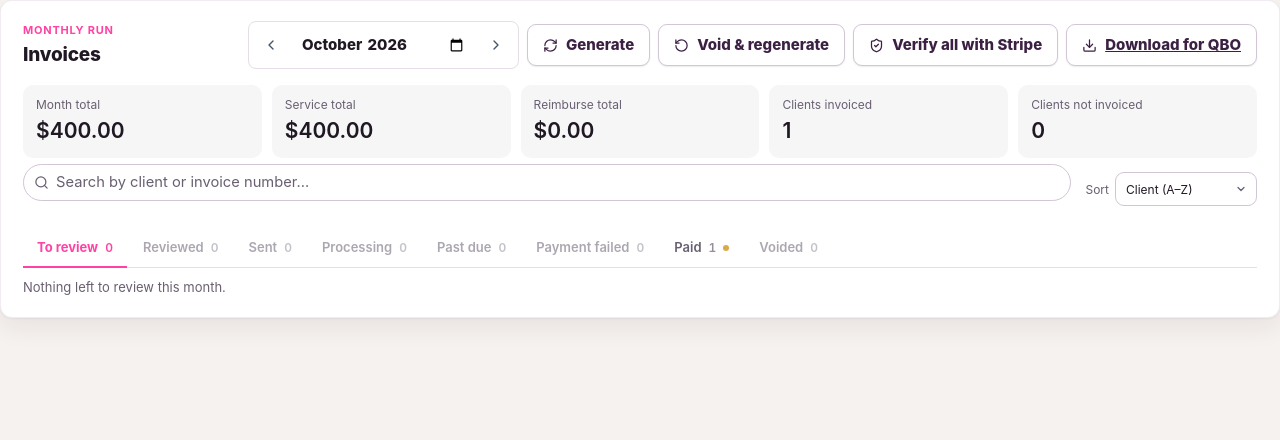
Scenario: a payment for a different amount than the invoice total › shows both amounts on the row
Click the tab "Paid 1": (702, 249) [660,229,743,268]
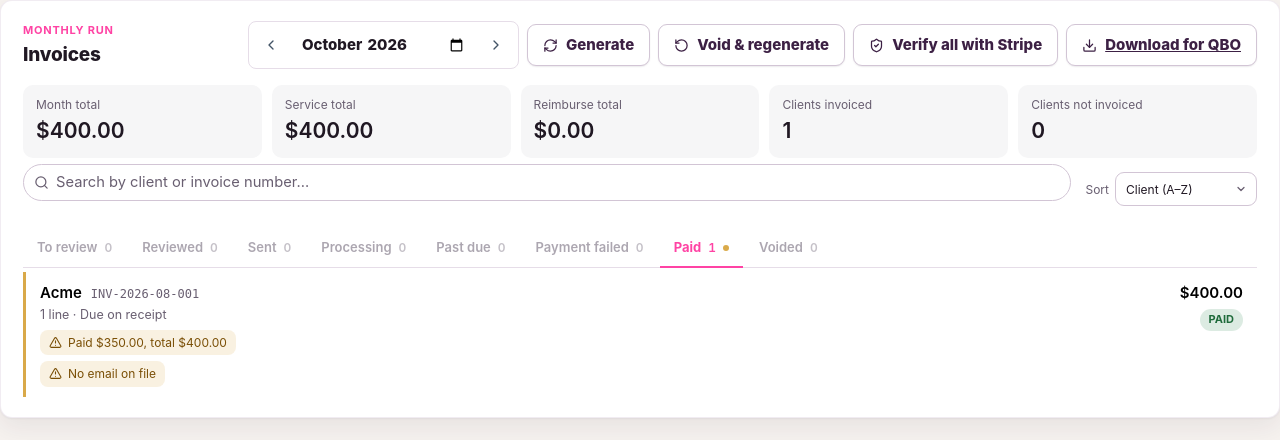
Expected: the text "Paid $350.00, total $400.00" is shown, [40,330,236,355]
